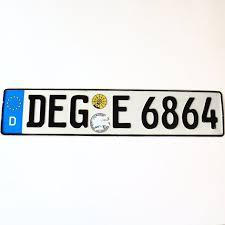4: (201, 95, 219, 129)
6: (181, 96, 200, 131), (141, 96, 160, 130)
8: (161, 95, 180, 130)
D: (27, 93, 47, 129)
E: (47, 92, 68, 129), (113, 93, 133, 130)
G: (71, 93, 91, 129)
